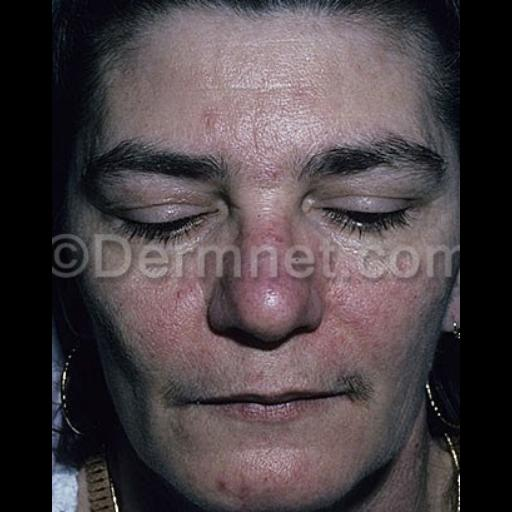Skin_Lesion: (332, 279, 404, 353), (242, 264, 314, 314), (144, 319, 180, 361), (252, 213, 294, 249), (214, 470, 228, 492)
